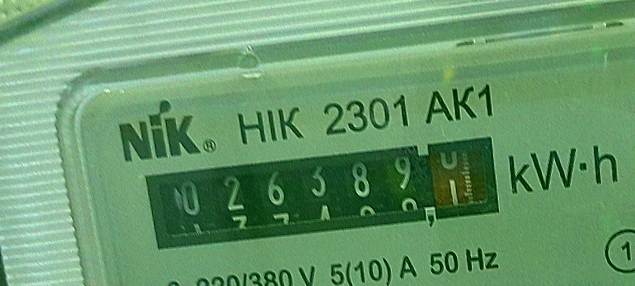0: (176, 176, 202, 217), (438, 148, 458, 171)
1: (445, 175, 460, 207)
2: (220, 172, 246, 212)
3: (306, 163, 327, 199)
6: (263, 167, 285, 207)
8: (348, 159, 372, 198)
9: (392, 154, 412, 190)
screen: (128, 123, 515, 262)
